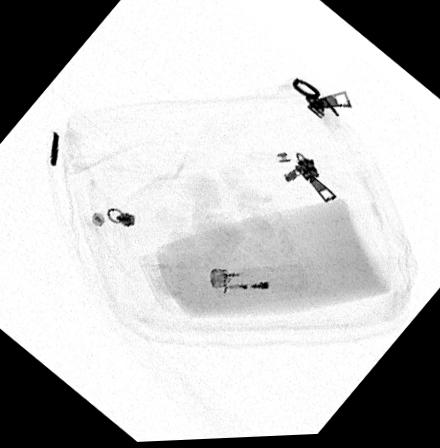Lighter: (207, 264, 306, 296)
